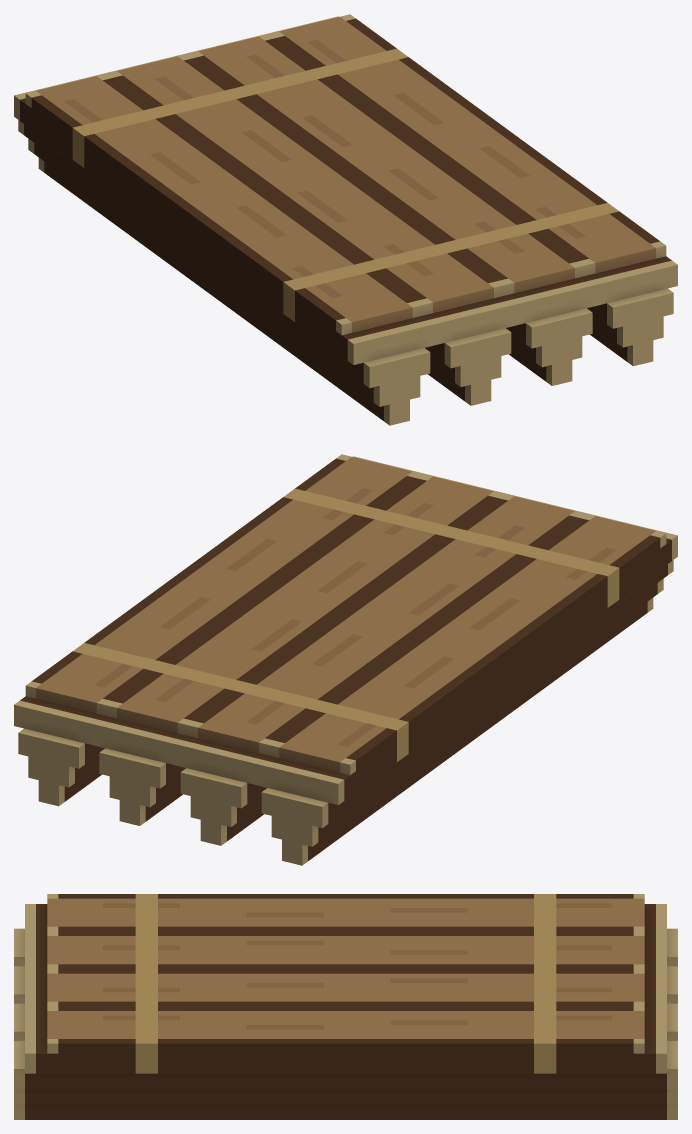
The model's file is log_bridge_2.glb.
3 renders of one model, top to bottom at view 1: azimuth 30°, elevation 25°; view 2: azimuth 150°, elevation 25°; view 3: azimuth 270°, elevation 25°, orthographic. The views are drawn at different scales.
Parts seen in each view (by area): view 1: VoxelVisual; view 2: VoxelVisual; view 3: VoxelVisual.
Part boxes in pixels (<box>): VoxelVisual: <box>14,14,677,425</box>; VoxelVisual: <box>14,454,677,865</box>; VoxelVisual: <box>14,894,677,1119</box>.
Size of what is drawn, in the model's own units: 2 by 0.5625 by 3.75.
